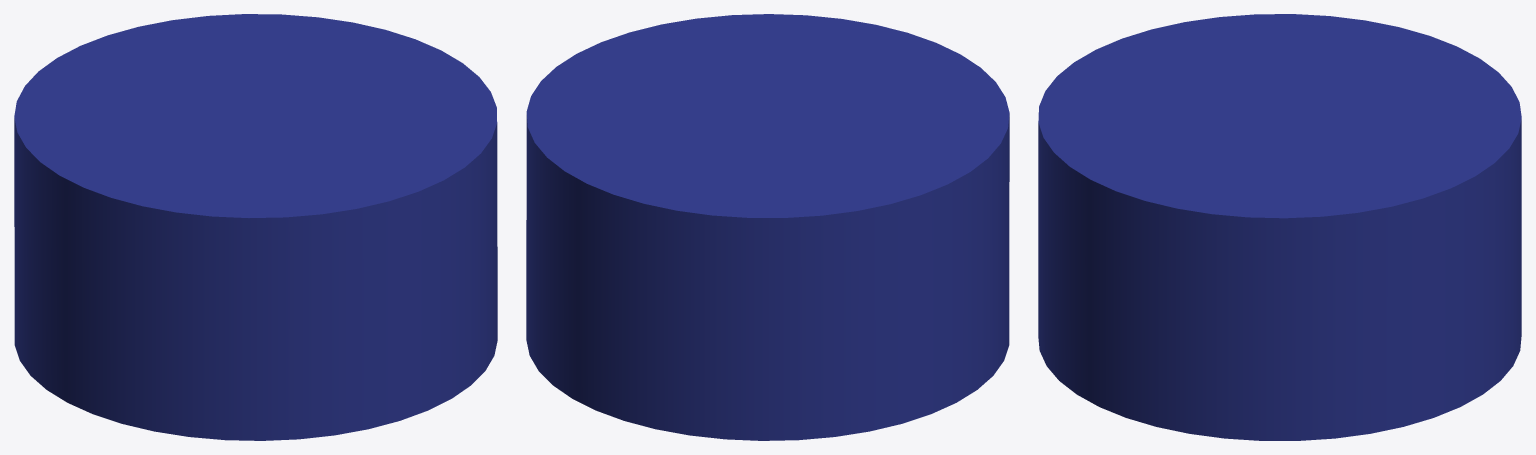
File: left_wheel.obj
3 views of the same model, side by side, from view 1: azimuth 30°, elevation 25°; view 2: azimuth 150°, elevation 25°; view 3: azimuth 270°, elevation 25° (orthographic).
Visible parts, largest first — view 1: Body1; view 2: Body1; view 3: Body1.
Part boxes in pixels (bbox=[...]): Body1: bbox=[14, 14, 497, 440]; Body1: bbox=[526, 14, 1009, 440]; Body1: bbox=[1038, 14, 1521, 440].
Size of the model in its own units: 23.6 by 12 by 23.59.
